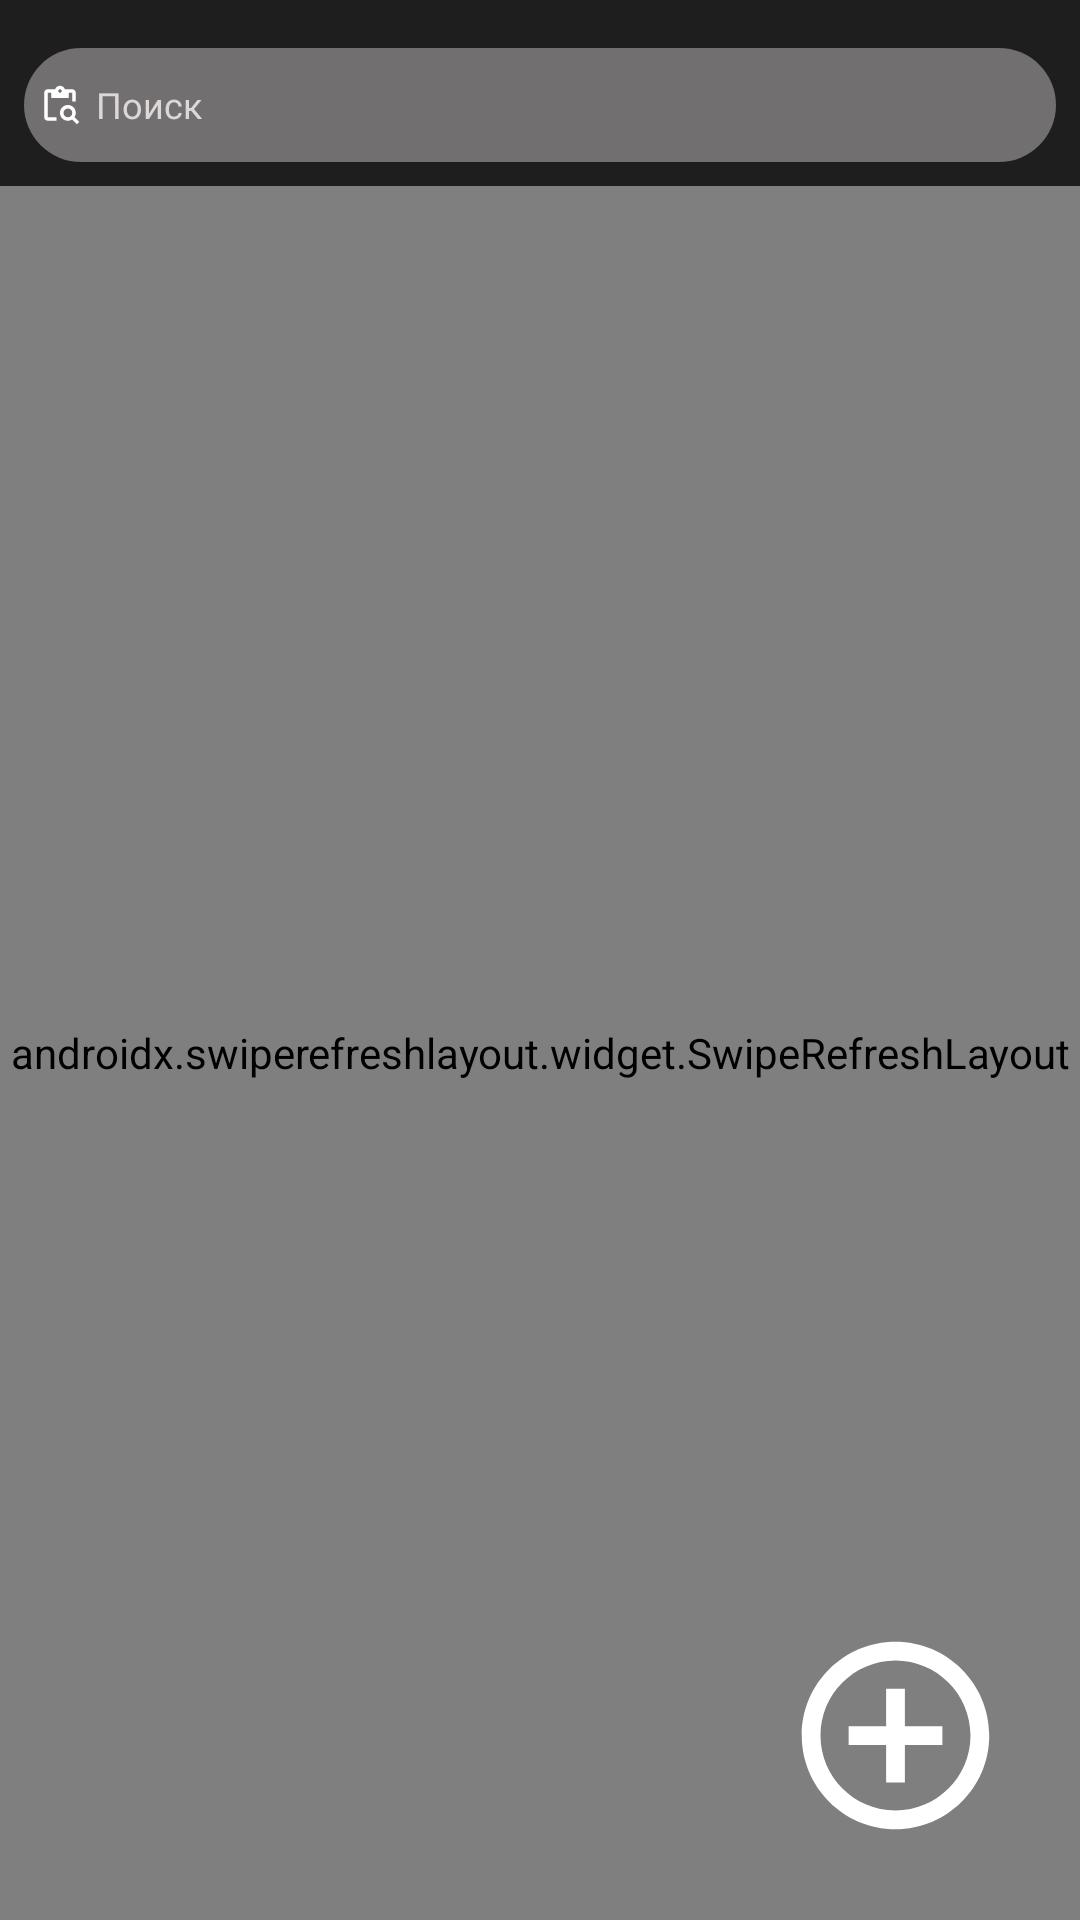

Icon click points for this 1080 × 1920 phone screenshot, format (x=x, y=y):
content paste search: (x=60, y=105)
plus: (x=895, y=1735)
